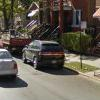Car: (18, 32, 78, 76)
